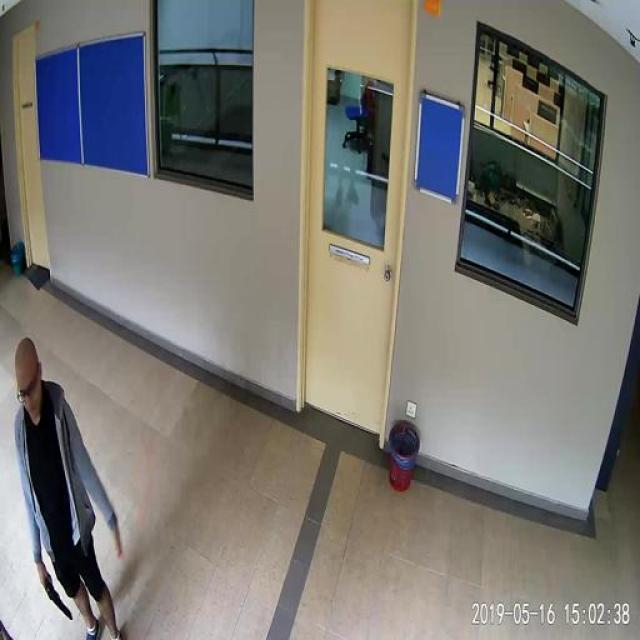Gun: (32, 568, 76, 628)
